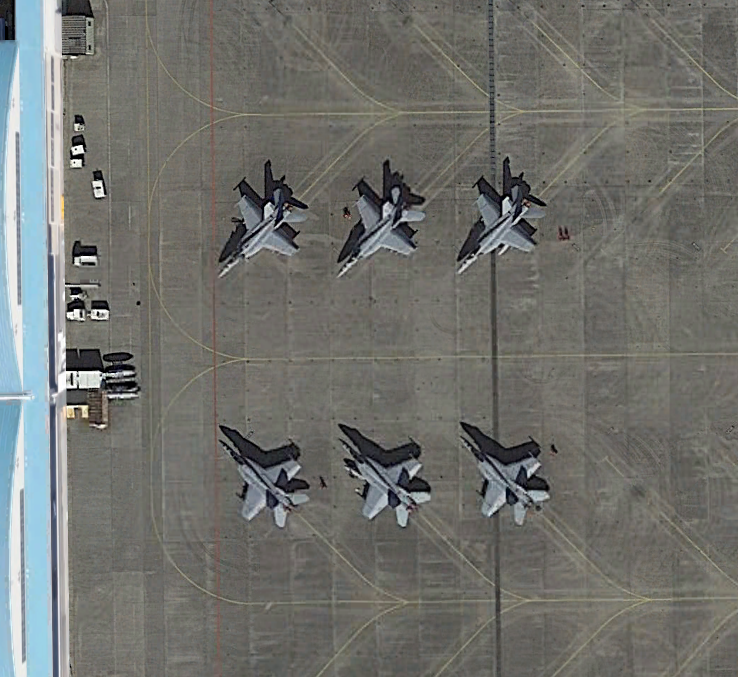A16: (211, 179, 311, 283), (328, 177, 428, 281), (449, 173, 549, 277), (214, 428, 314, 532), (332, 428, 432, 532), (453, 424, 553, 528)
